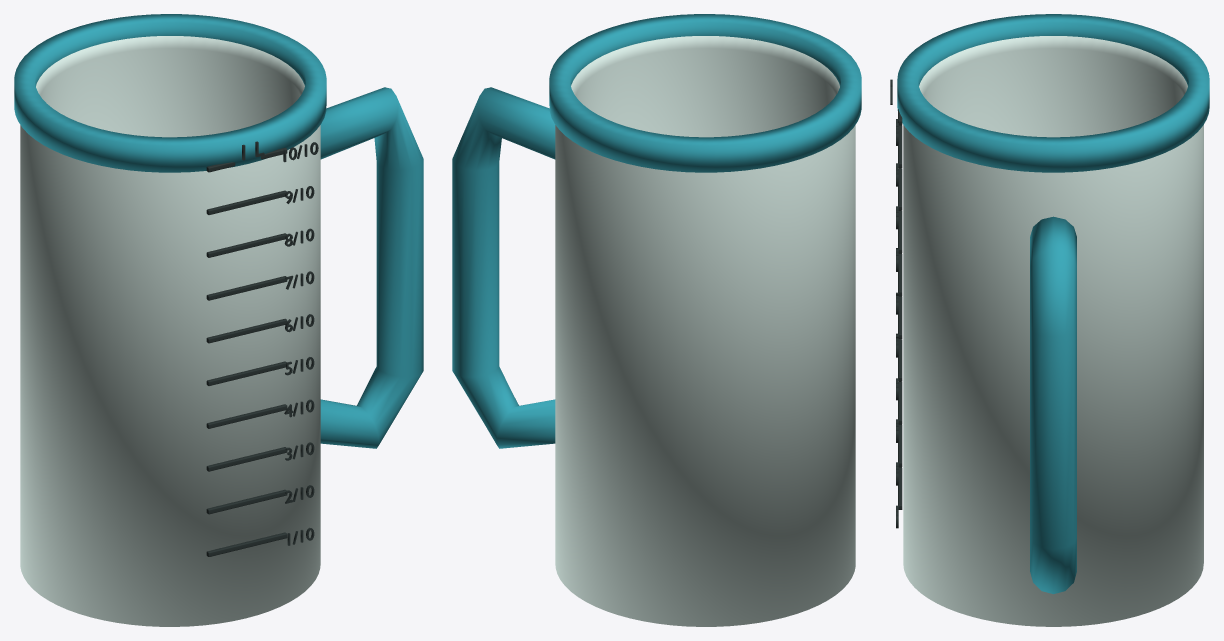
File: SM_Prop_MeasuringCup_1L.fbx
3 views of the same model, side by side, from view 1: azimuth 30°, elevation 25°; view 2: azimuth 150°, elevation 25°; view 3: azimuth 270°, elevation 25° (orthographic).
Parts seen in each view (by area): view 1: Cup_hollow_body, Cup_thick_rim, Cup_large_handle; view 2: Cup_hollow_body, Cup_thick_rim, Cup_large_handle; view 3: Cup_hollow_body, Cup_thick_rim, Cup_large_handle.
Part boxes in pixels (bbox=[...]): Cup_hollow_body: bbox=[20, 36, 320, 626]; Cup_thick_rim: bbox=[14, 14, 326, 172]; Cup_large_handle: bbox=[320, 87, 423, 448]; Cup_hollow_body: bbox=[555, 36, 855, 626]; Cup_thick_rim: bbox=[549, 14, 861, 172]; Cup_large_handle: bbox=[452, 87, 555, 448]; Cup_hollow_body: bbox=[903, 36, 1203, 626]; Cup_thick_rim: bbox=[897, 14, 1209, 172]; Cup_large_handle: bbox=[1030, 216, 1076, 594].
Size of what is drawn, in the model's own units: 15.1 by 10.84 by 18.1.
